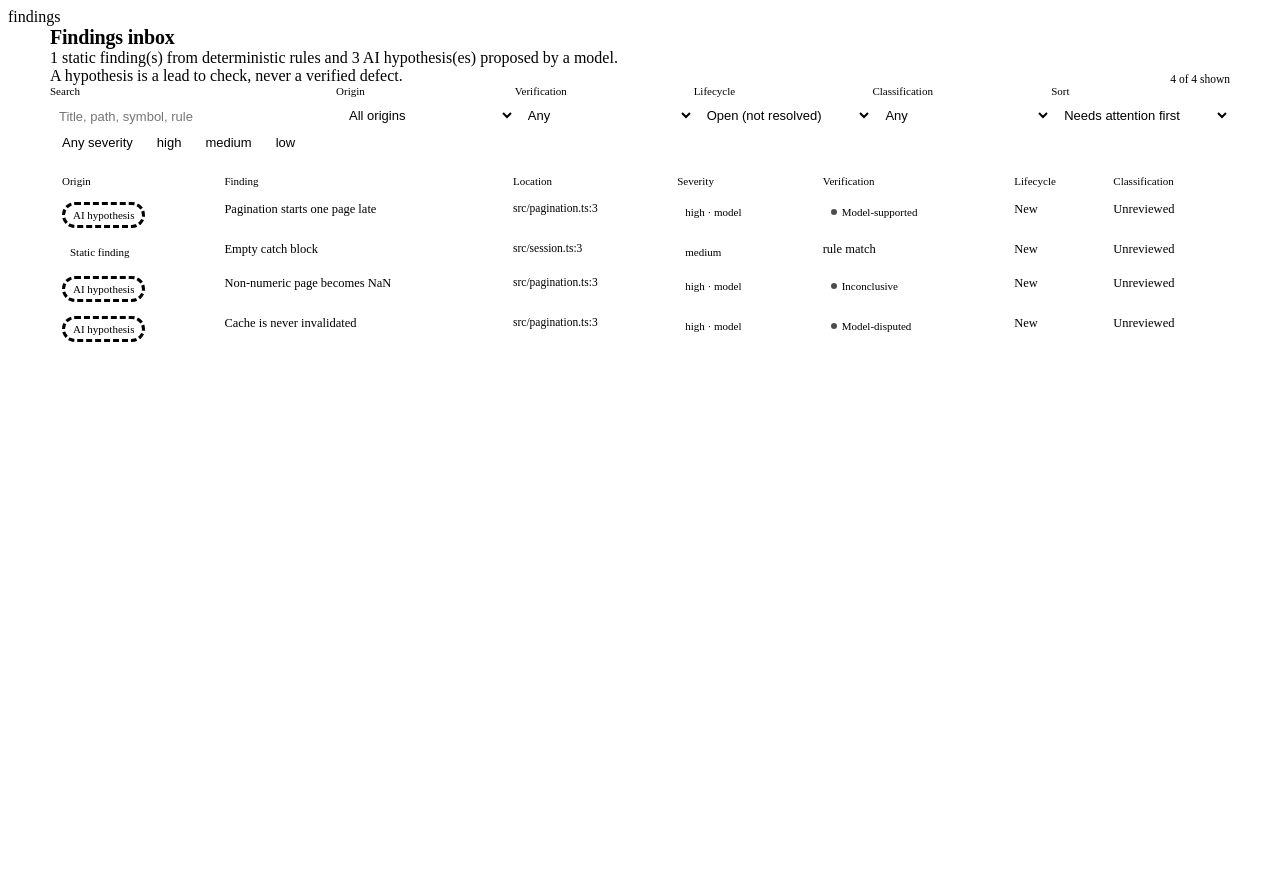
Test case: findings inbox › presents a failed verification as inconclusive and unproven reachability as unproven
Click the button "Non-numeric page becomes NaN": (308, 284) [224,276,391,291]
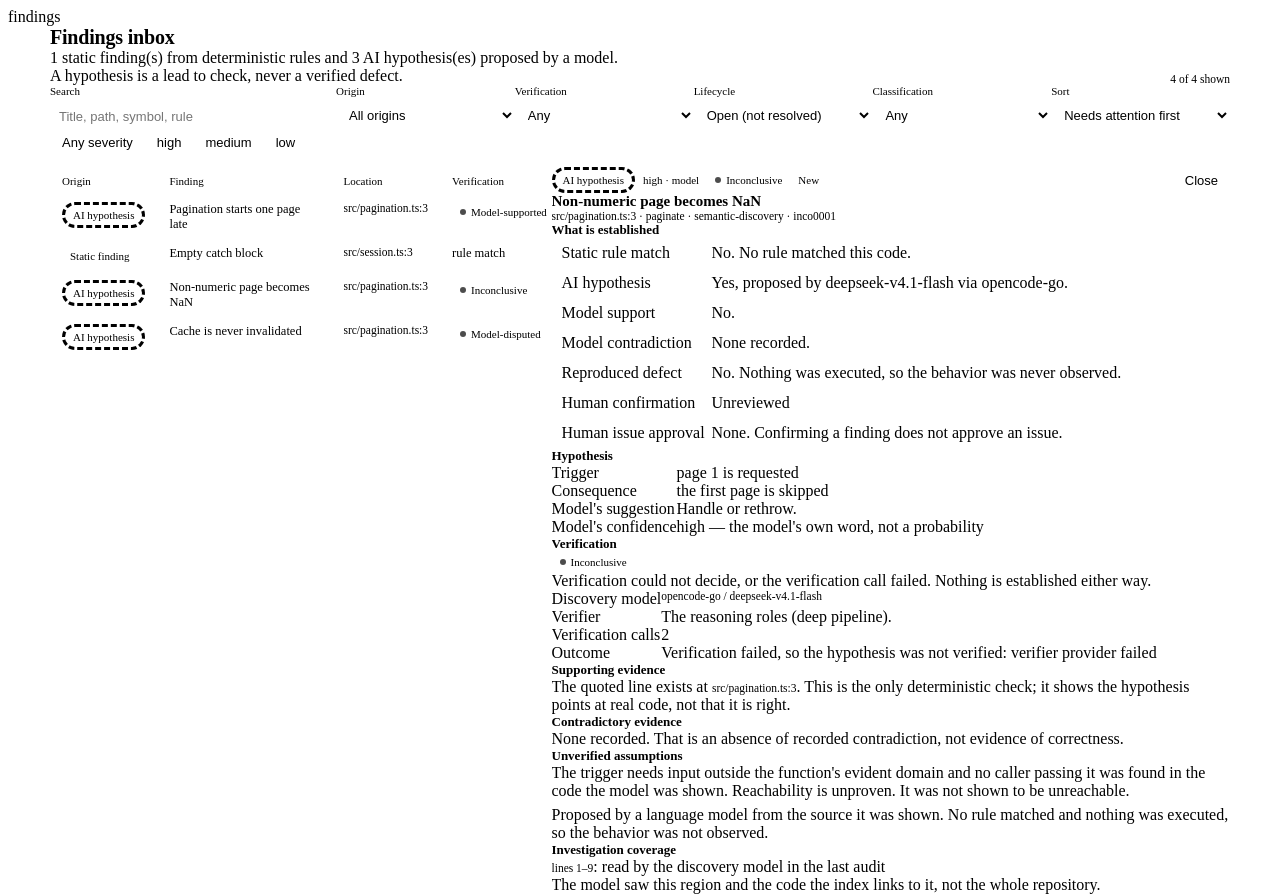
Check: the 3rd text "Inconclusive" is shown, box [552,552,635,572]
Check: the element "Verification" shows "Verification failed, so the hypothesis was not verified", box [661,644,1157,661]
Check: the element "Unverified assumptions" shows "Reachability is unproven. It was not shown to be unreachable.", box [552,764,1205,799]
